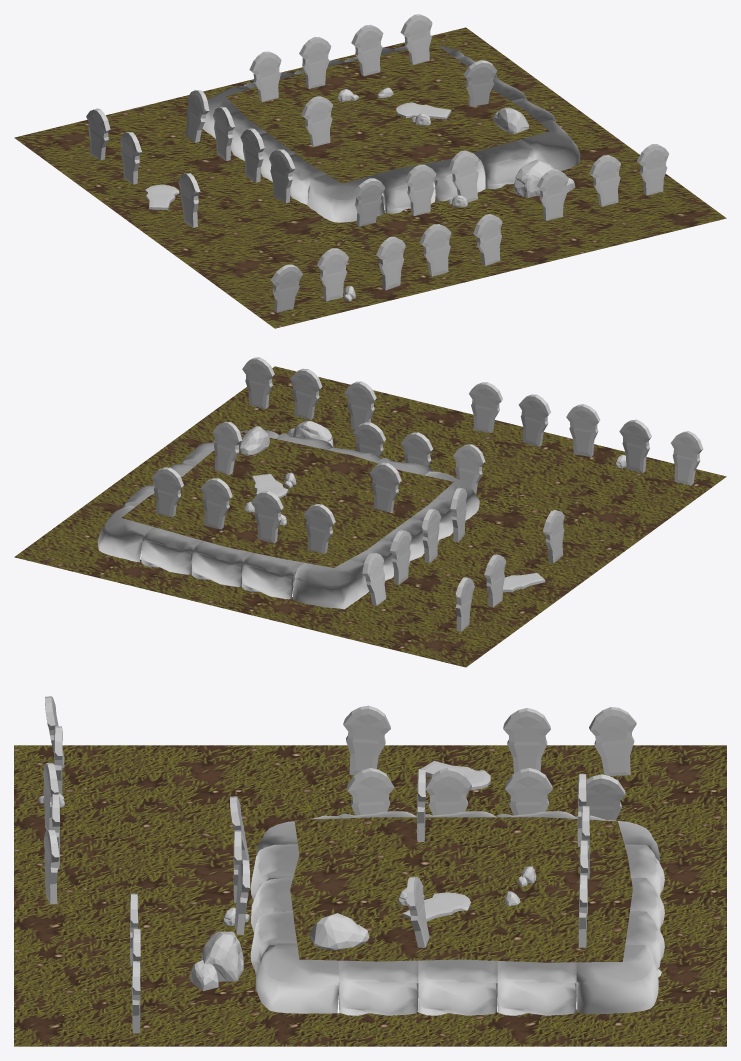
Rendered from Edge_Diorama_8.fbx.
3 renders of one model, top to bottom at view 1: azimuth 30°, elevation 25°; view 2: azimuth 150°, elevation 25°; view 3: azimuth 270°, elevation 25°, orthographic. The views are drawn at different scales.
Visible parts, largest first — view 1: Floor033; view 2: Floor033; view 3: Floor033.
Part boxes in pixels (x1,y1,x2,y2): Floor033: (14, 14, 726, 328); Floor033: (14, 357, 726, 667); Floor033: (14, 696, 726, 1046).
Bounding box in the file's own units: 450 × 83.93 × 450.
